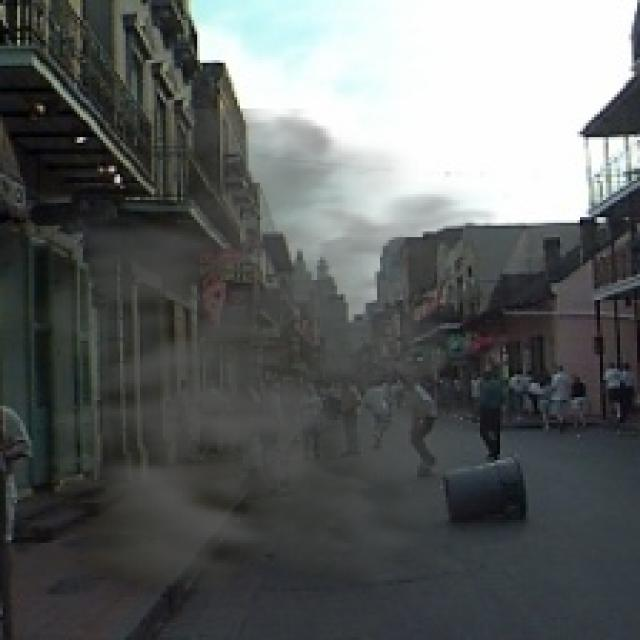smoke: (0, 109, 549, 628)
